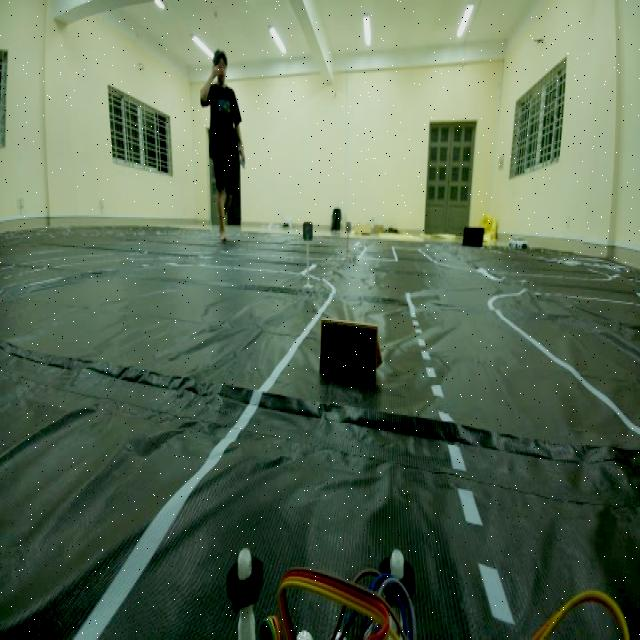roadblock: (317, 312, 385, 383)
